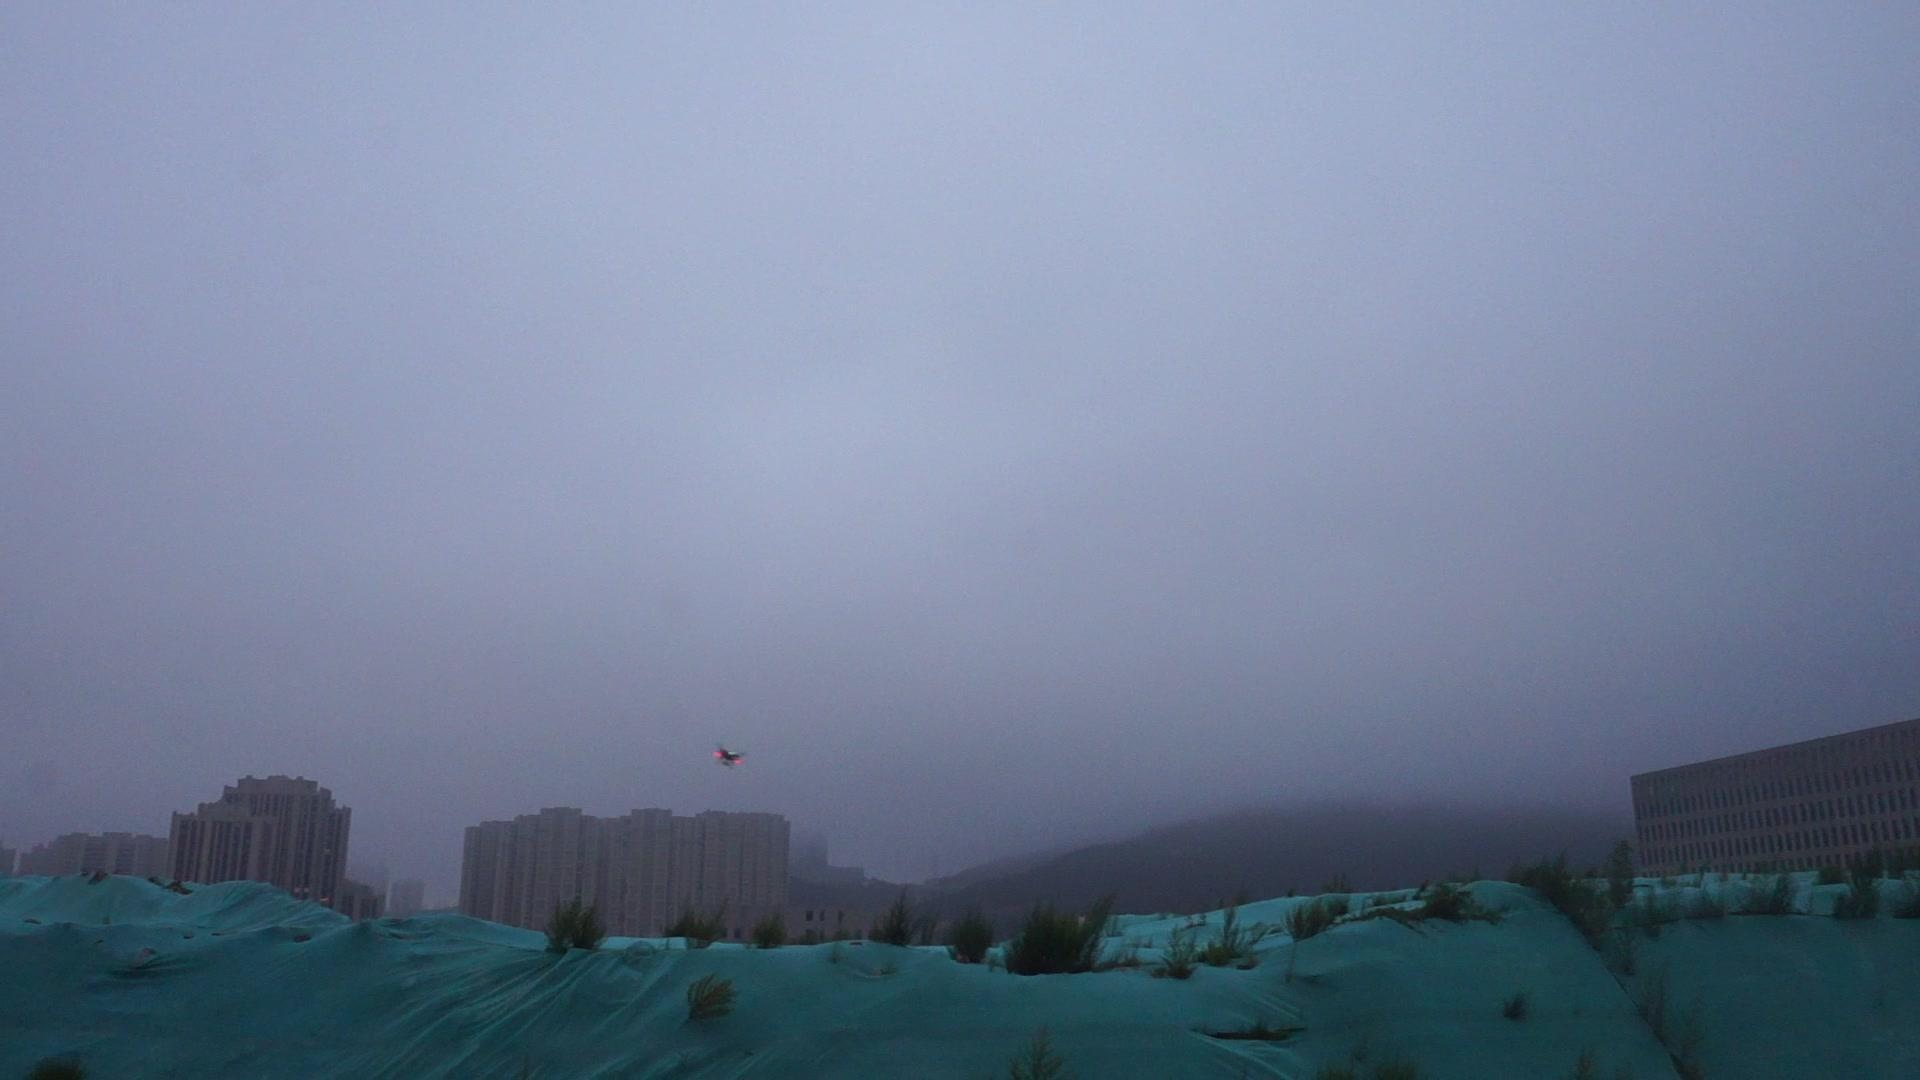UAV: (712, 749, 746, 769)
